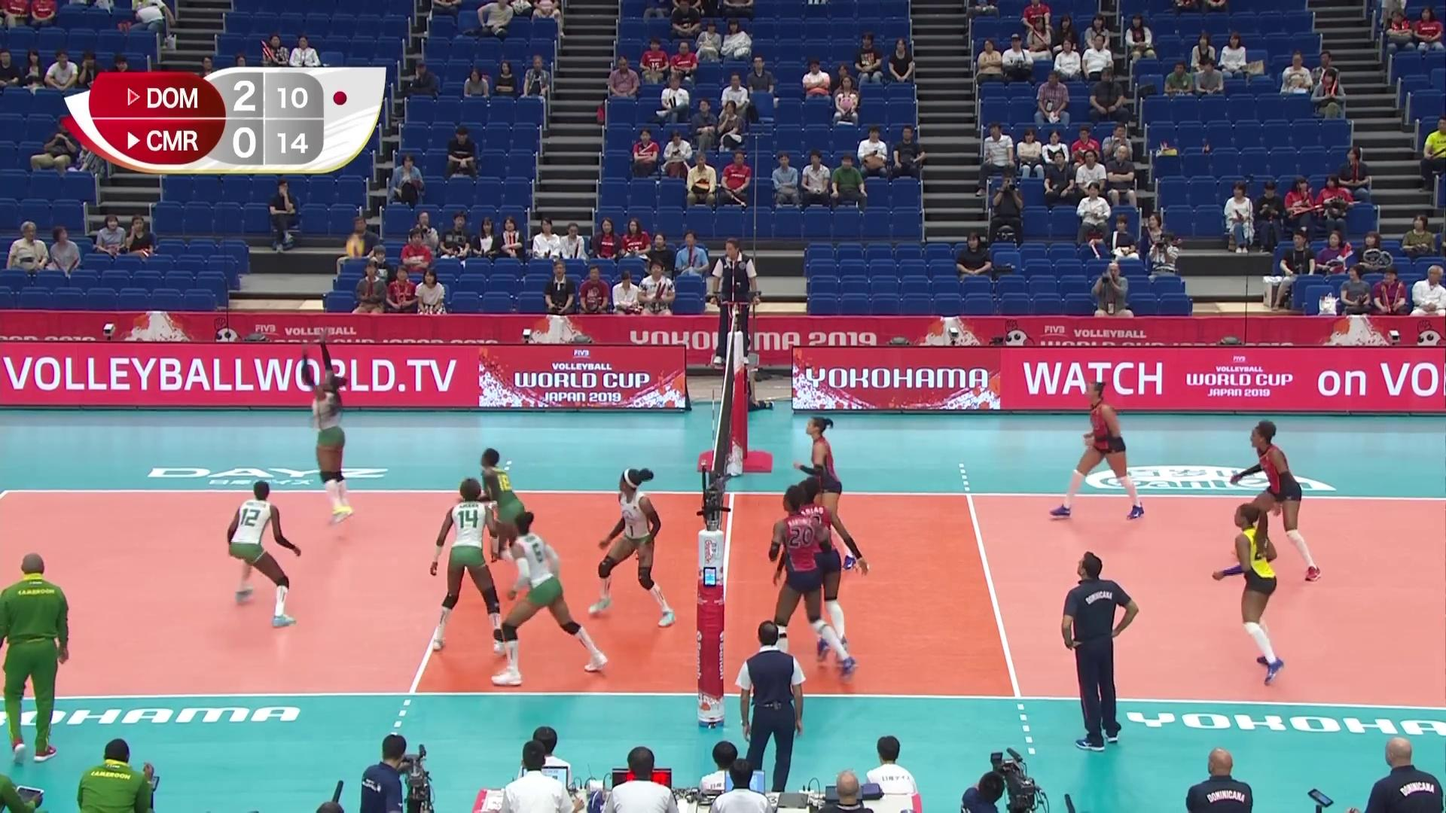player: (495, 510, 610, 684), (764, 486, 855, 678), (780, 477, 868, 659), (1230, 421, 1323, 583), (431, 478, 507, 657), (1053, 382, 1149, 519), (595, 467, 676, 625), (1217, 503, 1285, 683), (223, 481, 304, 625), (474, 448, 543, 597), (794, 417, 858, 571), (302, 332, 352, 522)
refree: (737, 622, 804, 795), (711, 237, 758, 363)
